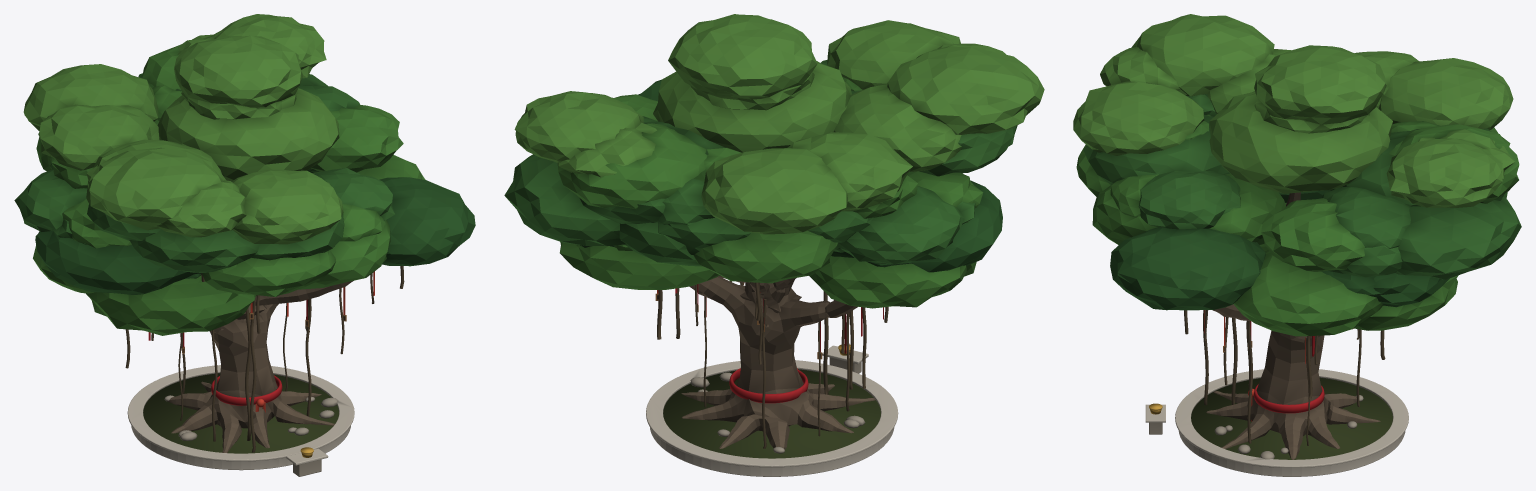
Rendered from cay-da.glb.
3 renders of one model, left to right at view 1: azimuth 30°, elevation 25°; view 2: azimuth 150°, elevation 25°; view 3: azimuth 270°, elevation 25°, orthographic. The views are drawn at different scales.
Parts seen in each view (by area): view 1: cay-da; view 2: cay-da; view 3: cay-da.
Part boxes in pixels (x1=…): cay-da: x1=14, y1=14, x2=475, y2=476; cay-da: x1=504, y1=14, x2=1044, y2=476; cay-da: x1=1073, y1=14, x2=1521, y2=476.
Bounding box in the file's own units: 20.21 × 18.26 × 19.76.
